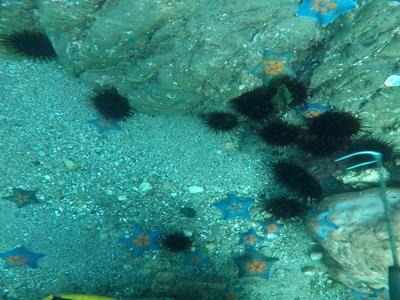urchin: (271, 160, 324, 202), (4, 26, 61, 63), (84, 85, 134, 123), (312, 110, 371, 142), (270, 71, 312, 108), (261, 194, 309, 222), (231, 87, 274, 118), (257, 119, 292, 149), (200, 109, 240, 135), (163, 230, 192, 254)
